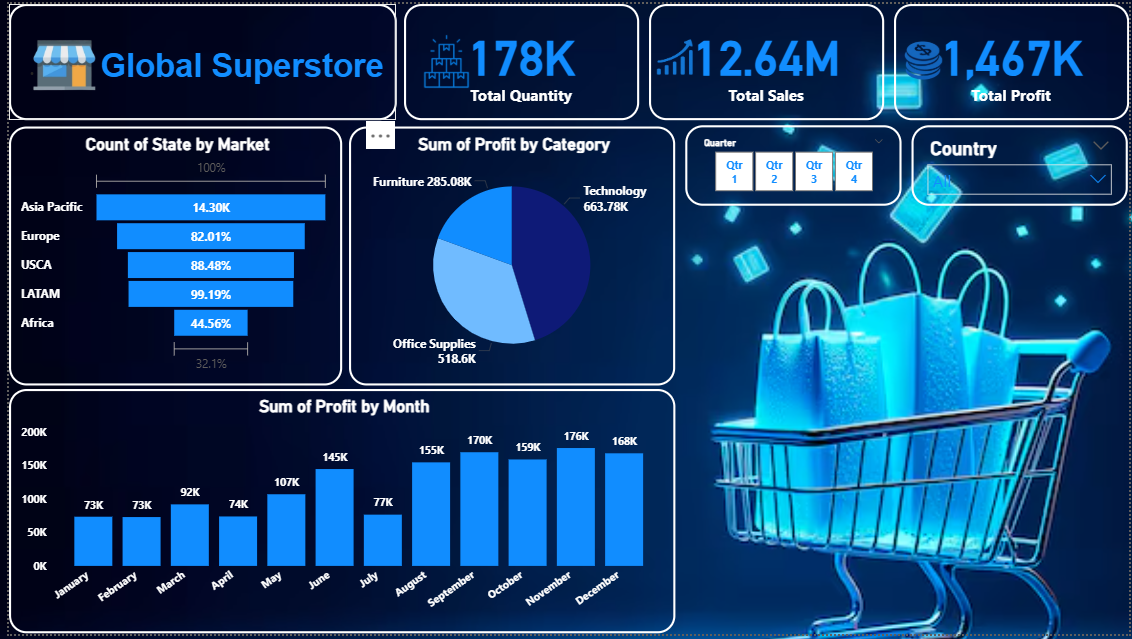

The dashboard page shown, as its layout file describes it:
{"tool":"powerbi","page":{"name":"Dashboard 2","canvas":[1280,720],"ordinal":1},"visuals":[{"type":"clusteredColumnChart","fields":{"Y":["Sum(Orders.Profit)"],"Category":["Orders.Order Date.Variation.Date Hierarchy.Month"]},"box":[0,440.3,761.9,279.6],"z":0},{"type":"funnel","fields":{"Y":["CountNonNull(Orders.State)"],"Category":["Orders.Market"]},"box":[0,139.8,380.9,295.9],"z":1000},{"type":"pieChart","fields":{"Category":["Orders.Category"],"Y":["Sum(Orders.Profit)"]},"box":[389.1,139.8,372.8,295.9],"z":2000},{"type":"card","fields":{"Values":["Sum(Orders.Profit)"]},"box":[1011.4,0,268.6,132.9],"z":3000},{"type":"card","fields":{"Values":["Sum(Orders.Sales)"]},"box":[731.4,0,268.6,132.9],"z":4000},{"type":"card","fields":{"Values":["Sum(Orders.Quantity)"]},"box":[451.4,0,268.6,132.9],"z":5000},{"type":"textbox","box":[0,0,442.9,132.9],"z":6000},{"type":"image","box":[0,14,126.7,95.3],"z":7000},{"type":"image","box":[462.5,14,74.6,102.5],"z":8000},{"type":"image","box":[731.6,23.3,60.6,75.7],"z":9000},{"type":"image","box":[996,22.1,95.5,87.4],"z":10000},{"type":"slicer","fields":{"Values":["Orders.Ship Date.Variation.Date Hierarchy.Quarter"]},"box":[772.3,138.6,247,92],"z":11000},{"type":"slicer","fields":{"Values":["Orders.Country"]},"box":[1030.9,138.6,247,92],"z":12000}]}

Visuals, with their boxes in screenshot pixels (x1, y1, x2, y2), scaled from the page's 1280x720 canvas onto the 1132x639 screenshot:
clusteredColumnChart - Sum(Orders.Profit) x Orders.Order Date.Variation.Date Hierarchy.Month: 0,391,674,638
funnel - CountNonNull(Orders.State) x Orders.Market: 0,124,337,387
pieChart - Orders.Category x Sum(Orders.Profit): 344,124,674,387
card - Sum(Orders.Profit): 894,0,1131,118
card - Sum(Orders.Sales): 647,0,884,118
card - Sum(Orders.Quantity): 399,0,637,118
textbox: 0,0,392,118
image: 0,12,112,97
image: 409,12,475,103
image: 647,21,701,88
image: 881,20,965,97
slicer - Orders.Ship Date.Variation.Date Hierarchy.Quarter: 683,123,901,205
slicer - Orders.Country: 912,123,1130,205
